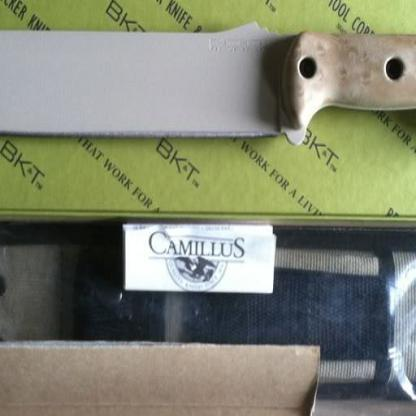knife: (0, 25, 415, 142)
